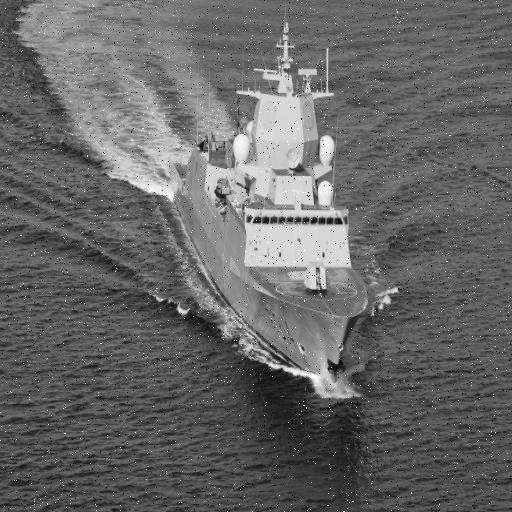Fragata: (165, 1, 381, 397)
